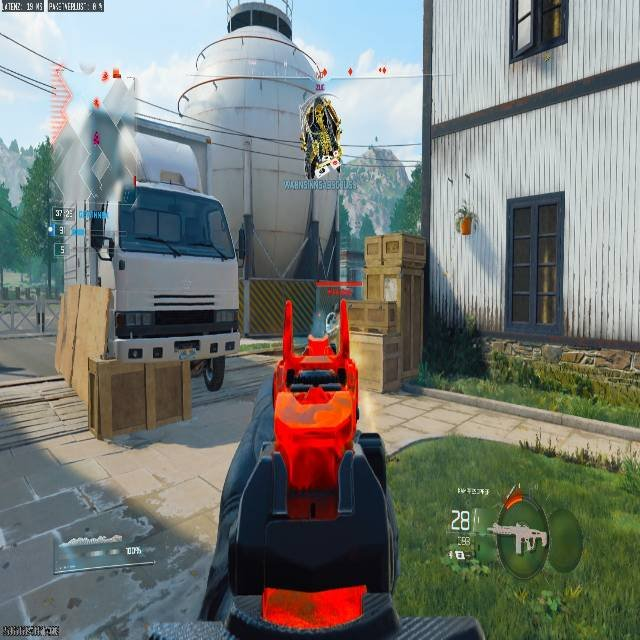head: (225, 0, 295, 42)
